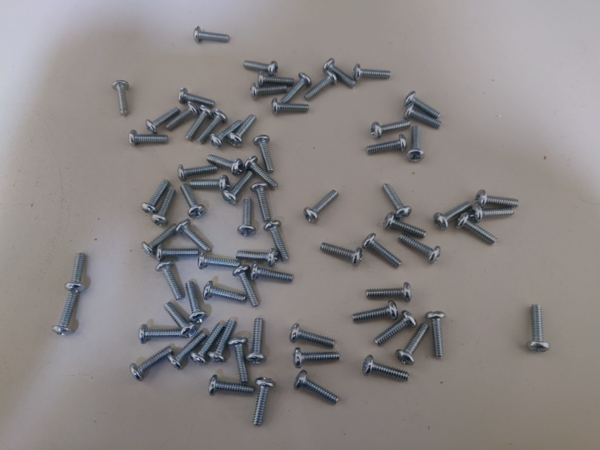shortscrew: (293, 370, 340, 405), (374, 311, 418, 348), (130, 346, 174, 383), (396, 321, 430, 365), (168, 333, 207, 371), (455, 212, 498, 246), (363, 233, 403, 268), (190, 324, 223, 366), (363, 354, 409, 383), (398, 233, 441, 264), (208, 319, 237, 364), (163, 302, 198, 339), (141, 224, 178, 259), (52, 292, 80, 337), (253, 377, 277, 427), (304, 190, 339, 224), (155, 260, 184, 301), (384, 213, 428, 240), (290, 324, 336, 349), (434, 201, 472, 231), (383, 182, 412, 221), (527, 304, 550, 353), (245, 157, 279, 190), (233, 265, 259, 308), (222, 170, 253, 206), (141, 179, 170, 217), (320, 242, 364, 267), (405, 102, 443, 130), (404, 91, 442, 119), (426, 311, 448, 359), (208, 375, 256, 397), (304, 70, 338, 101), (352, 301, 399, 323), (245, 317, 267, 364), (292, 348, 341, 369), (281, 72, 312, 105), (228, 114, 257, 149), (185, 105, 213, 141), (145, 107, 181, 135), (264, 221, 289, 261), (211, 119, 244, 149), (184, 281, 207, 324), (228, 337, 249, 384), (197, 110, 225, 145), (180, 184, 207, 220), (204, 281, 248, 303), (323, 59, 356, 88), (166, 102, 199, 131), (365, 283, 412, 303), (151, 188, 175, 226), (366, 135, 408, 156), (65, 253, 87, 293), (251, 263, 295, 283), (253, 136, 276, 174), (475, 190, 520, 209), (471, 203, 515, 222), (139, 325, 180, 345), (405, 125, 426, 164), (251, 182, 272, 221), (198, 252, 241, 271), (236, 248, 279, 267), (371, 120, 411, 140), (237, 198, 257, 237), (206, 156, 244, 176), (193, 26, 231, 45), (111, 81, 131, 117), (271, 98, 311, 116), (251, 82, 288, 101), (130, 129, 168, 147), (178, 164, 218, 181), (157, 245, 199, 261), (189, 176, 231, 192), (353, 64, 392, 81), (177, 88, 216, 105), (243, 60, 278, 76), (257, 72, 295, 86)
